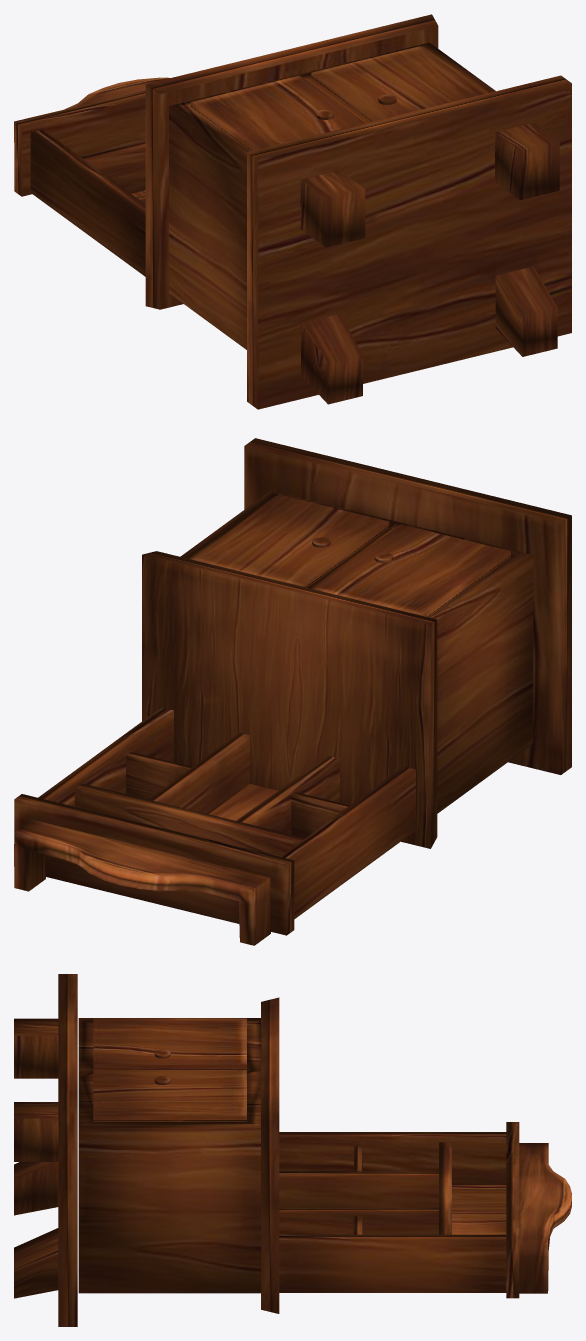
File: Mueble Cocina Fin.FBX
3 views of the same model, one above another, from view 1: azimuth 30°, elevation 25°; view 2: azimuth 150°, elevation 25°; view 3: azimuth 270°, elevation 25° (orthographic). The views are drawn at different scales.
Visible parts, largest first — view 1: MuebleCocina; view 2: MuebleCocina; view 3: MuebleCocina.
Boxes of the visible parts, x1,y1,x2,y2 form: MuebleCocina: [14, 14, 571, 409]; MuebleCocina: [14, 438, 571, 945]; MuebleCocina: [14, 974, 571, 1326].
Bounding box in the file's own units: 103 × 78.21 × 181.
Materials: 1 (1 with a texture image).
